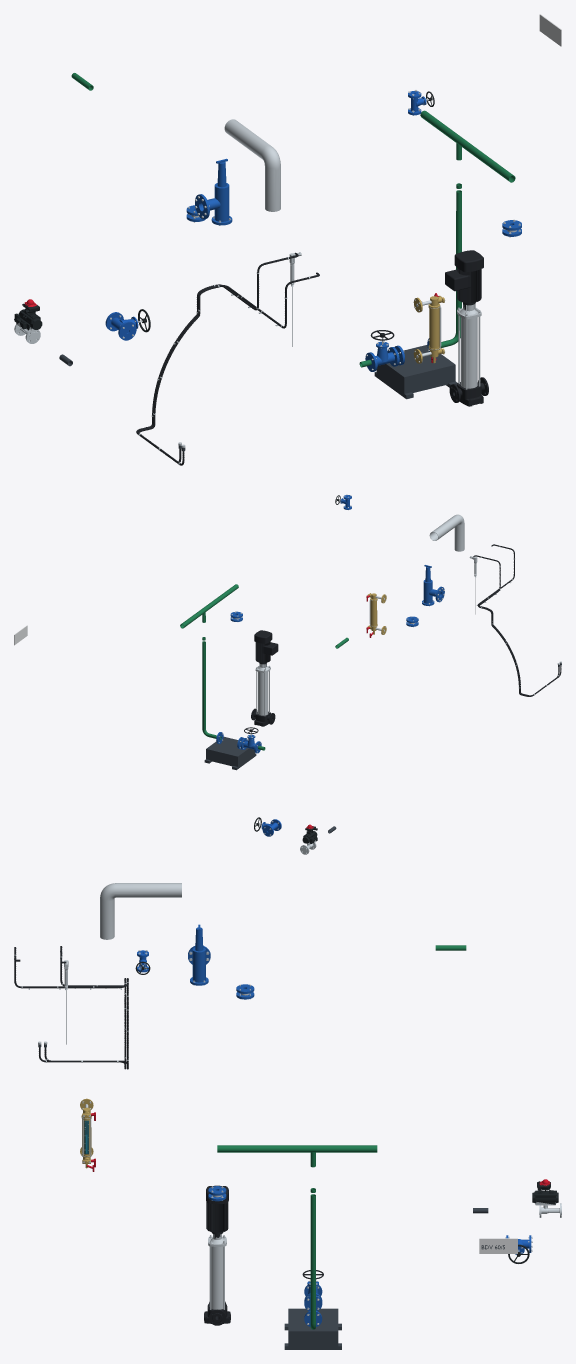
The picture shows the model from 3 angles, top to bottom: view 1: azimuth 30°, elevation 25°; view 2: azimuth 150°, elevation 25°; view 3: azimuth 270°, elevation 25°; orthographic projection. The views are drawn at different scales.
Visible parts, largest first — view 1: pump_branch_2 / dark, steam_rise / steel, pump_1 CAD solid 15, safety_1 / blue, pump_1 CAD solid 2, sight_glasses_2 / sight_glasses_2_0.npz, wiring_lp200 / black, pump_delivery / green, bcv7432 / bcv7432_0.npz, pump_branch_2 / green, wiring_high_level / black, drain_isolation_2 / drain_isolation_2_0.npz (+2 smaller); view 2: pump_branch_2 / dark, steam_rise / steel, pump_1 CAD solid 15, pump_branch_2 / green, safety_1 / blue, sight_glasses_2 / sight_glasses_2_0.npz, pump_1 CAD solid 2; view 3: pump_branch_2 / dark, steam_rise / steel, pump_delivery / green, pump_branch_2 / green, pump_1 CAD solid 2, wiring_lp200 / black, safety_1 / blue, pump_1 CAD solid 15, sight_glasses_2 / sight_glasses_2_0.npz, bcv7432 / bcv7432_0.npz, bdv_identification / white, wiring_high_level / black.
Boxes of the visible parts, x1,y1,x2,y2 form: pump_branch_2 / dark: (374,345,457,399); steam_rise / steel: (224,119,280,211); pump_1 CAD solid 15: (445,250,483,303); safety_1 / blue: (195,158,232,225); pump_1 CAD solid 2: (460,317,477,388); sight_glasses_2 / sight_glasses_2_0.npz: (413,293,445,363); wiring_lp200 / black: (138,272,319,465); pump_delivery / green: (420,110,515,182); bcv7432 / bcv7432_0.npz: (14,299,42,343); pump_branch_2 / green: (359,143,461,367); wiring_high_level / black: (136,252,298,462); drain_isolation_2 / drain_isolation_2_0.npz: (105,309,150,340); pump_branch_2 / dark: (204,736,256,770); steam_rise / steel: (429,514,464,551); pump_1 CAD solid 15: (254,630,278,663); pump_branch_2 / green: (202,612,265,750); safety_1 / blue: (422,565,444,605); sight_glasses_2 / sight_glasses_2_0.npz: (366,593,386,637); pump_1 CAD solid 2: (258,671,268,715); pump_branch_2 / dark: (284,1308,341,1349); steam_rise / steel: (100,883,181,939); pump_delivery / green: (217,1145,377,1152); pump_branch_2 / green: (310,1152,315,1329); pump_1 CAD solid 2: (209,1246,223,1309); wiring_lp200 / black: (14,947,126,1069); safety_1 / blue: (188,924,210,985); pump_1 CAD solid 15: (206,1185,228,1233); sight_glasses_2 / sight_glasses_2_0.npz: (80,1098,95,1171); bcv7432 / bcv7432_0.npz: (532,1179,561,1217); bdv_identification / white: (479,1238,517,1253); wiring_high_level / black: (44,946,128,1069).
Size of the model in its own units: 5.09 by 2.97 by 4.29.
